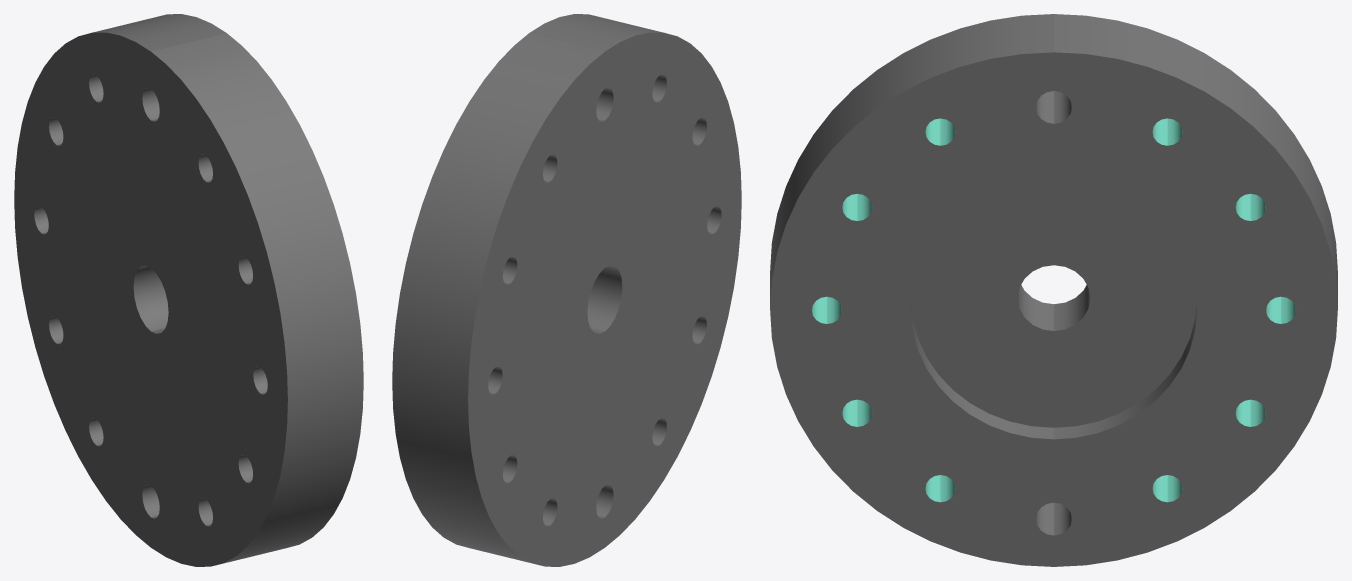
3 renders of one model, left to right at view 1: azimuth 30°, elevation 25°; view 2: azimuth 150°, elevation 25°; view 3: azimuth 270°, elevation 25°, orthographic. The views are drawn at different scales.
Parts seen in each view (by area): view 1: Mesh_0; view 2: Mesh_0; view 3: Mesh_0.
Boxes of the visible parts, <box> form: Mesh_0: <box>14,14,363,566</box>; Mesh_0: <box>392,14,741,566</box>; Mesh_0: <box>770,14,1337,566</box>.
Bounding box in the file's own units: 0.02 × 0.125 × 0.125.
